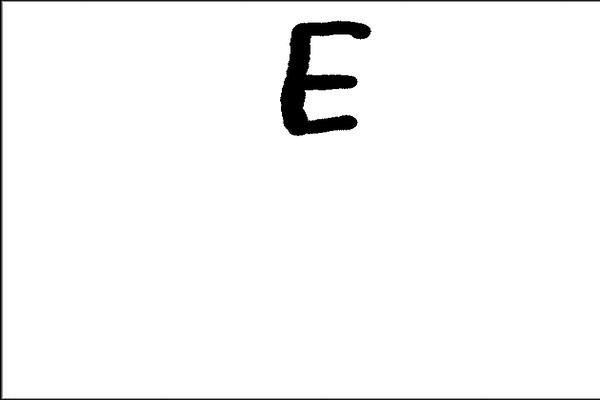E: (276, 15, 375, 138)
